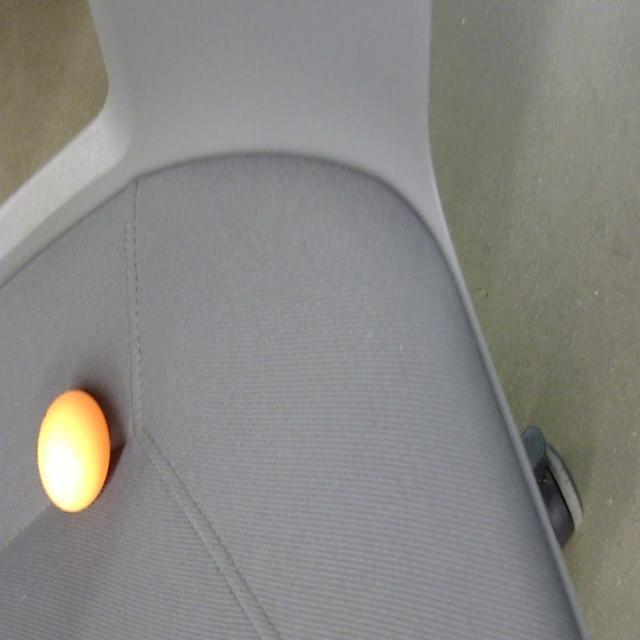ball: (34, 389, 114, 514)
